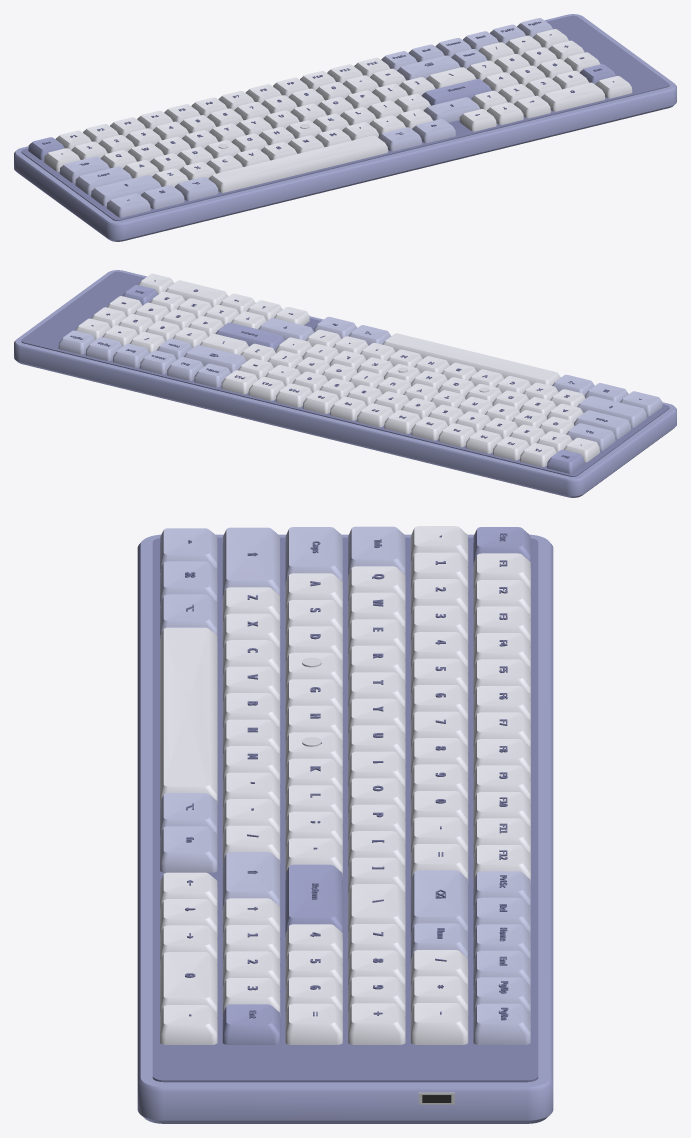
File: flow2_100_mac.glb
3 views of the same model, one above another, from view 1: azimuth 30°, elevation 25°; view 2: azimuth 150°, elevation 25°; view 3: azimuth 270°, elevation 25° (orthographic). The views are drawn at different scales.
Parts seen in each view (by area): view 1: keycaps_alpha, case, keycaps_mod, key_well, keycaps_accent, legends; view 2: keycaps_alpha, case, keycaps_mod, key_well, keycaps_accent, legends; view 3: keycaps_alpha, key_well, keycaps_mod, case, keycaps_accent, legends.
Part boxes in pixels (x1,y1,x2,y2): keycaps_alpha: [44, 29, 632, 192]; case: [14, 14, 676, 241]; keycaps_mod: [59, 18, 552, 217]; key_well: [21, 15, 669, 220]; keycaps_accent: [28, 64, 616, 160]; legends: [42, 21, 614, 200]; keycaps_alpha: [75, 273, 599, 466]; case: [14, 270, 676, 497]; keycaps_mod: [58, 316, 662, 450]; key_well: [21, 271, 669, 476]; keycaps_accent: [123, 285, 584, 473]; legends: [70, 280, 641, 458]; keycaps_alpha: [160, 526, 530, 1044]; key_well: [152, 537, 538, 1082]; keycaps_mod: [160, 526, 530, 1044]; case: [137, 534, 553, 1123]; keycaps_accent: [222, 527, 530, 1044]; legends: [185, 533, 508, 1020].
Size of the model in its own units: 0.3988 by 0.0215 by 0.126.
